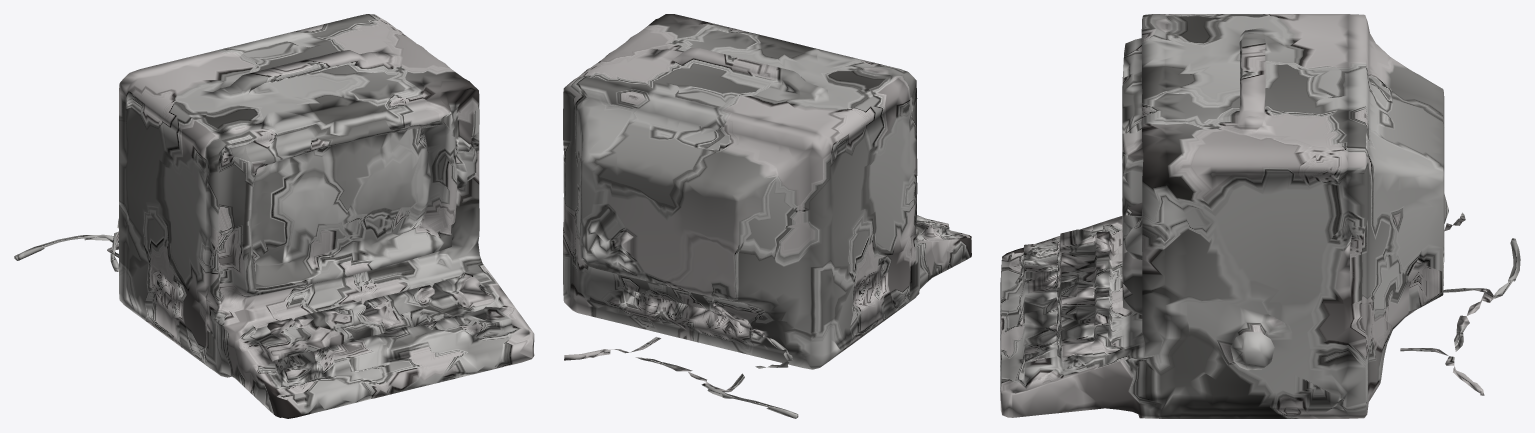
File: hack_terminal.glb
3 renders of one model, left to right at view 1: azimuth 30°, elevation 25°; view 2: azimuth 150°, elevation 25°; view 3: azimuth 270°, elevation 25°, orthographic. The views are drawn at different scales.
Parts seen in each view (by area): view 1: hack_terminal; view 2: hack_terminal; view 3: hack_terminal.
Part boxes in pixels (x1=…): hack_terminal: x1=14, y1=14, x2=534, y2=418; hack_terminal: x1=563, y1=14, x2=971, y2=418; hack_terminal: x1=1000, y1=14, x2=1520, y2=418.
Bounding box in the file's own units: 0.6519 × 0.4542 × 0.7498.
Materials: 1 (1 with a texture image).
